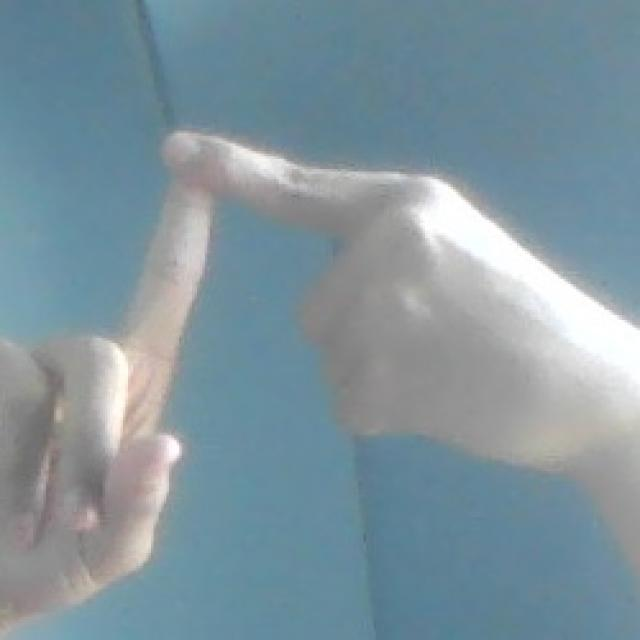Alphabet-E: (0, 131, 640, 640)
